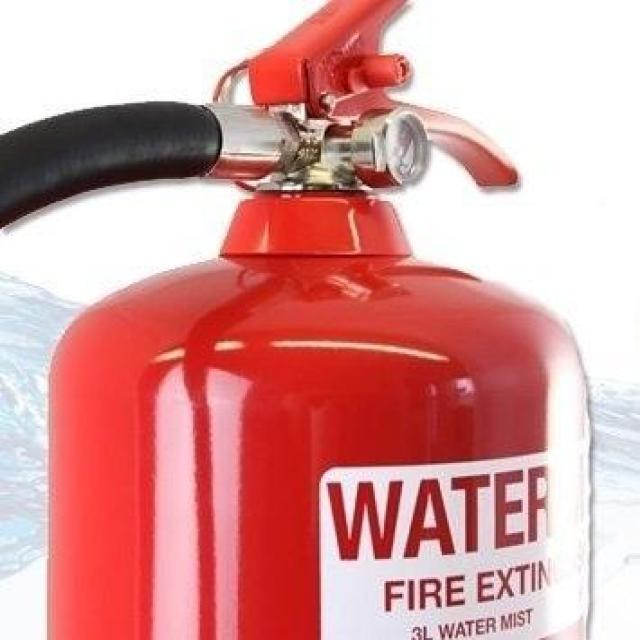fire_extinguisher: (0, 0, 599, 638)
